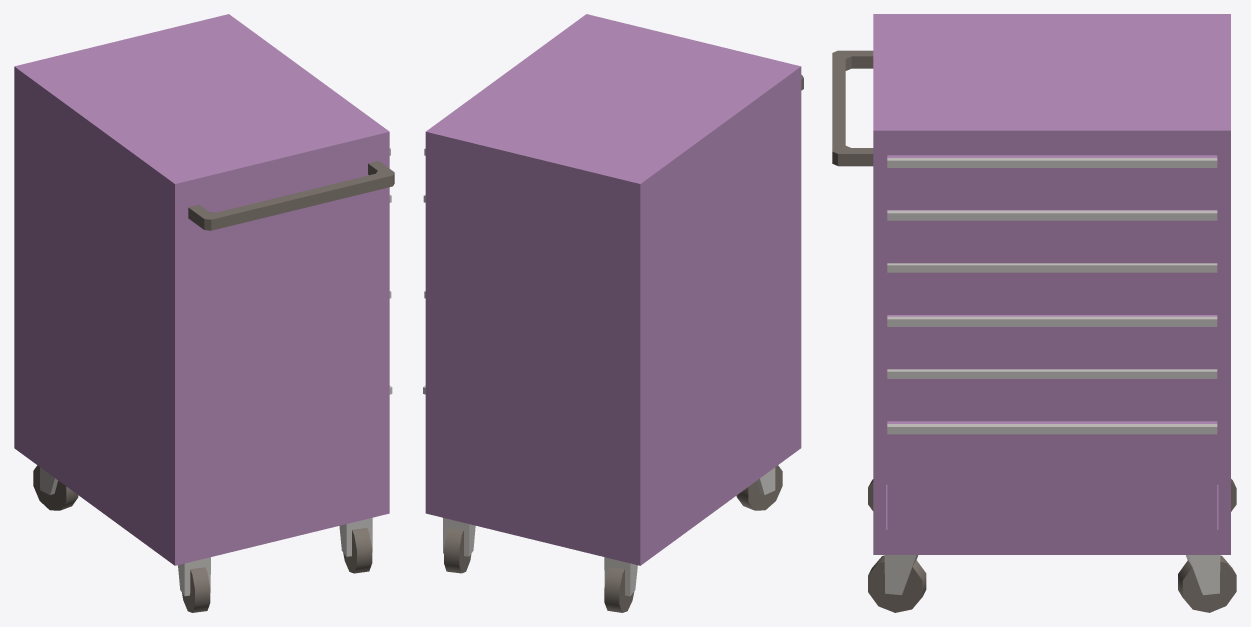
File: chariot_outils.fbx
The picture shows the model from 3 angles, left to right: view 1: azimuth 30°, elevation 25°; view 2: azimuth 150°, elevation 25°; view 3: azimuth 270°, elevation 25°; orthographic projection. The views are drawn at different scales.
Parts seen in each view (by area): view 1: chariot_outils; view 2: chariot_outils; view 3: chariot_outils.
Boxes of the visible parts, x1=… form: chariot_outils: x1=14, y1=14, x2=394, y2=612; chariot_outils: x1=423, y1=14, x2=803, y2=612; chariot_outils: x1=832, y1=14, x2=1236, y2=612.
Bounding box in the file's own units: 78.2 × 148 × 110.
